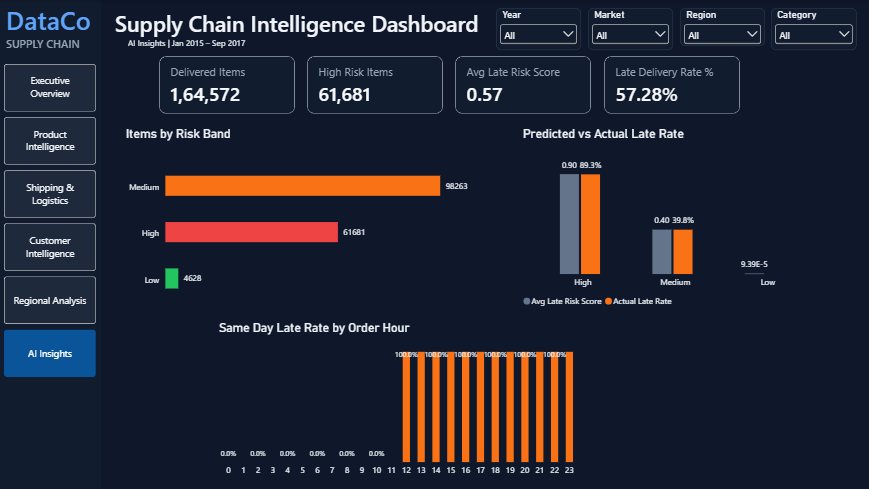

The dashboard page shown, as its layout file describes it:
{"tool":"powerbi","page":{"name":"AI Insights","canvas":[1280,720],"ordinal":5},"visuals":[{"type":"shape","box":[0,0,150,720],"z":0},{"type":"textbox","box":[10,4.4,136.1,62.6],"z":1000},{"type":"textbox","box":[10,52.9,136.1,41],"z":2000},{"type":"textbox","box":[170,12,600,50],"z":3000},{"type":"cardVisual","fields":{"Data":["late_risk_scores.High Risk Items"]},"box":[388,75,200,85],"z":4000},{"type":"cardVisual","fields":{"Data":["late_risk_scores.Avg Late Risk Score"]},"box":[606,75,200,85],"z":5000},{"type":"cardVisual","fields":{"Data":["Table.Late Delivery Rate %"]},"box":[824,75,200,85],"z":6000},{"type":"cardVisual","fields":{"Data":["Table.Delivered Items"]},"box":[170,75,200,85],"z":7000},{"type":"slicer","title":"Year","fields":{"Values":["Calender.Year"]},"box":[730.3,11.8,124.9,61.7],"z":8000},{"type":"slicer","title":"Year","fields":{"Values":["DataCo.Market"]},"box":[865.5,11.8,124.9,61.7],"z":9000},{"type":"slicer","title":"Year","fields":{"Values":["DataCo.Order Region"]},"box":[1000.7,11.8,124.9,55.8],"z":10000},{"type":"slicer","title":"Year","fields":{"Values":["DataCo.Category Name"]},"box":[1134.4,11.8,126.4,61.7],"z":11000},{"type":"clusteredBarChart","title":"Items by Risk Band","fields":{"Category":["late_risk_scores.risk_band"],"Y":["CountNonNull(late_risk_scores.order_item_id)"]},"box":[170.4,172,350,300],"z":12000},{"type":"pageNavigator","box":[7.3,94,135,462.9],"z":13000},{"type":"clusteredColumnChart","title":"Predicted vs Actual Late Rate","fields":{"Category":["late_risk_scores.risk_band"],"Y":["late_risk_scores.Avg Late Risk Score","late_risk_scores.Actual Late Rate"]},"box":[540,172,350,300],"z":14000},{"type":"clusteredColumnChart","title":"Same Day Late Rate by Order Hour","fields":{"Category":["late_risk_scores.order_hour"],"Y":["late_risk_scores.Actual Late Rate"]},"box":[169,457,561.3,263],"z":15000},{"type":"textbox","box":[189.6,52.9,229.2,30.9],"z":16000}]}

Visuals, with their boxes in screenshot pixels (x1, y1, x2, y2), scaled from the page's 1280x720 canvas onto the 869x489 screenshot:
shape: box=[0, 0, 102, 488]
textbox: box=[7, 3, 99, 46]
textbox: box=[7, 36, 99, 64]
textbox: box=[115, 8, 523, 42]
cardVisual - late_risk_scores.High Risk Items: box=[263, 51, 399, 109]
cardVisual - late_risk_scores.Avg Late Risk Score: box=[411, 51, 547, 109]
cardVisual - Table.Late Delivery Rate %: box=[559, 51, 695, 109]
cardVisual - Table.Delivered Items: box=[115, 51, 251, 109]
"Year" slicer: box=[496, 8, 581, 50]
"Year" slicer: box=[588, 8, 672, 50]
"Year" slicer: box=[679, 8, 764, 46]
"Year" slicer: box=[770, 8, 856, 50]
"Items by Risk Band" clusteredBarChart: box=[116, 117, 353, 321]
pageNavigator: box=[5, 64, 97, 378]
"Predicted vs Actual Late Rate" clusteredColumnChart: box=[367, 117, 604, 321]
"Same Day Late Rate by Order Hour" clusteredColumnChart: box=[115, 310, 496, 488]
textbox: box=[129, 36, 284, 57]
